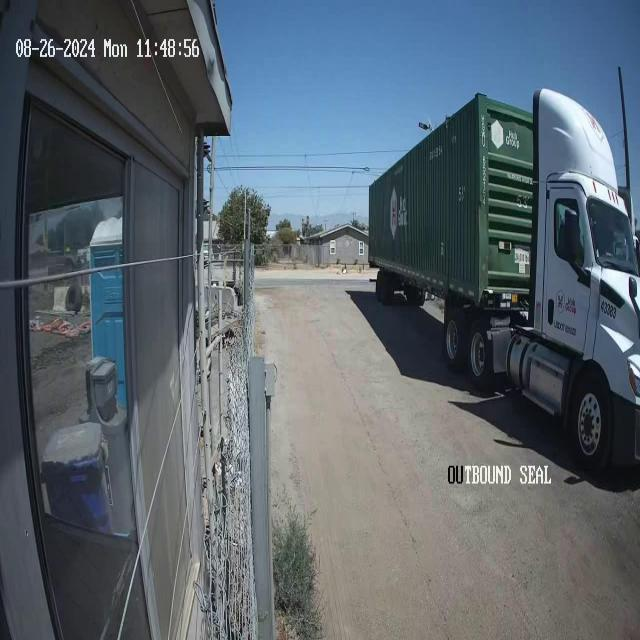TRUCK_IN: (367, 83, 639, 474)
